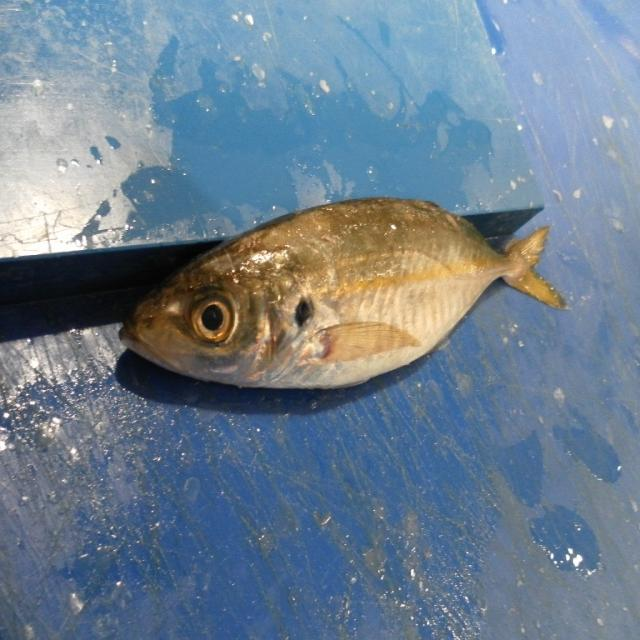Hourse-Mackerel-istavrit-: (119, 198, 566, 394)
